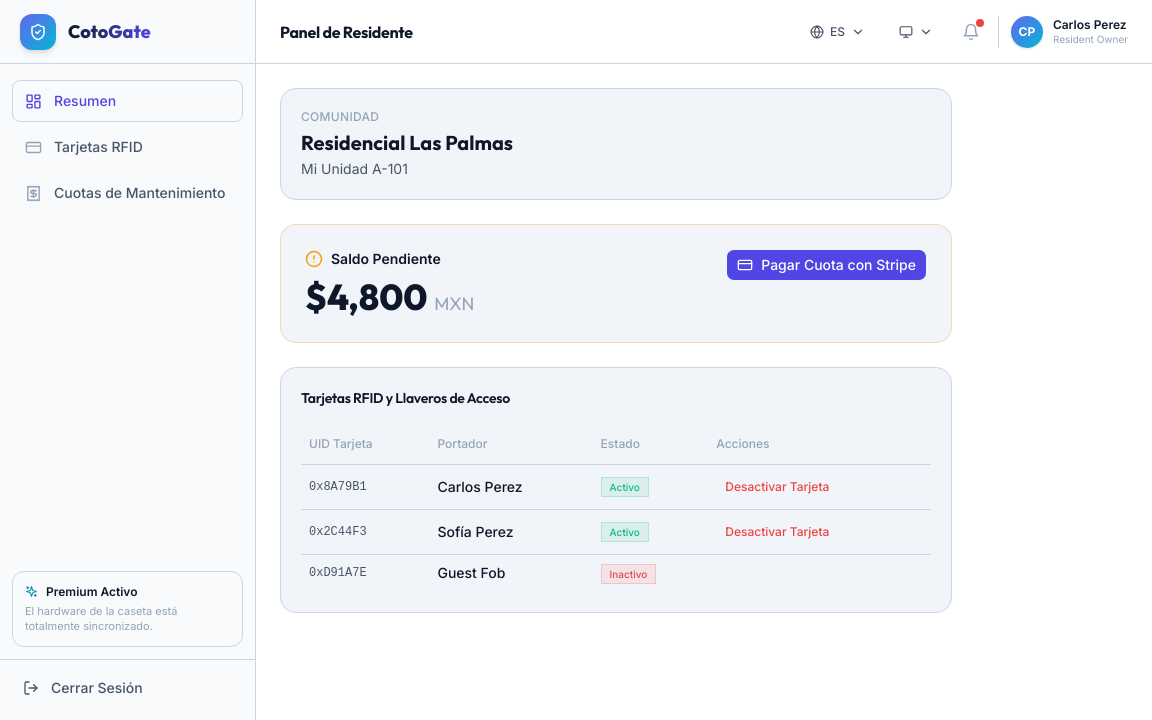
Scenario: ResidentPortal › opens the Stripe payment modal and shows the balance amount
Check: the heading "Panel de Residente" is shown, box [280,20,413,44]
Click the button with id "btn-pay-stripe" at (827, 265), box [726,249,927,281]
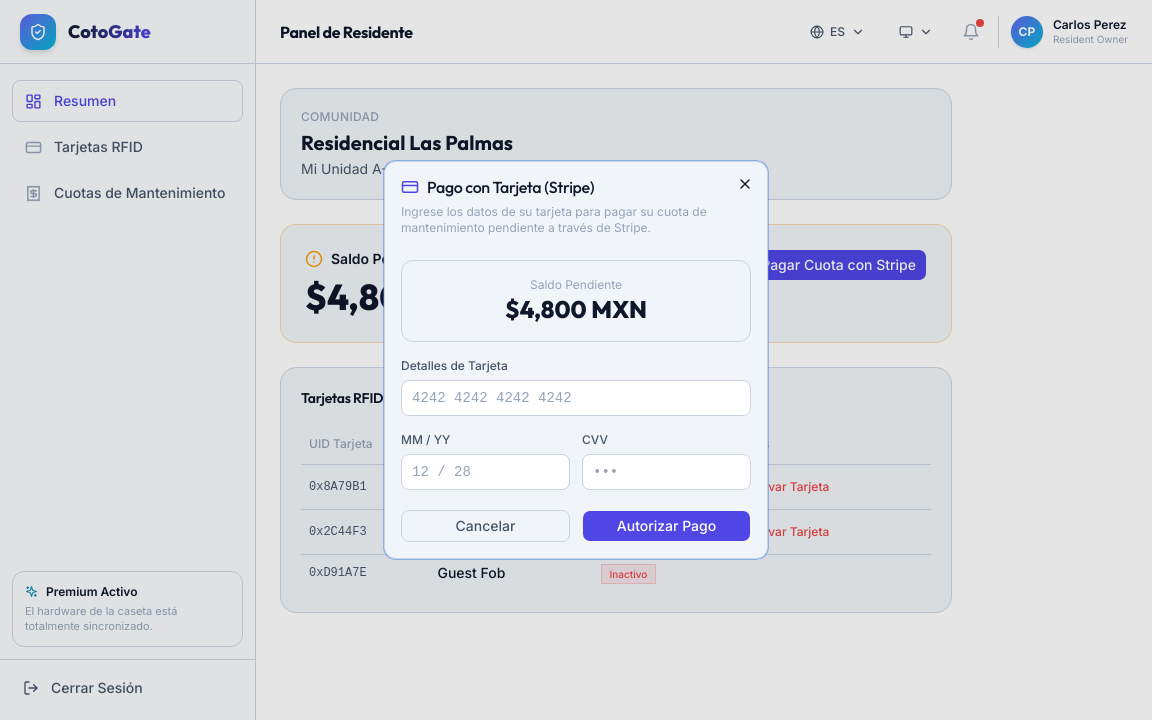
Check: the text "$4,800 MXN" is shown, box [305,277,474,318]
Check: the field labelled "Detalles de Tarjeta" is shown, box [401,380,751,416]
